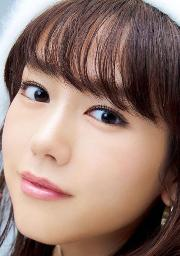face: (8, 66, 165, 238)
